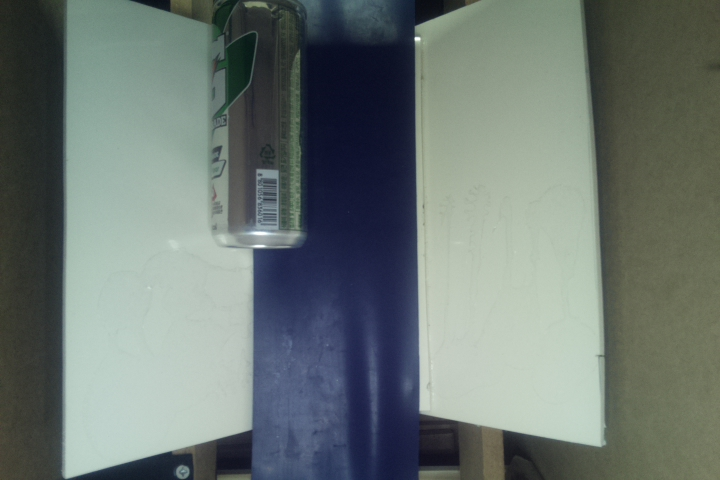can: (208, 1, 306, 249)
